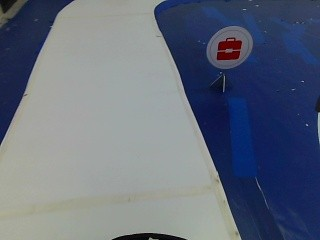company: (204, 25, 249, 68)
